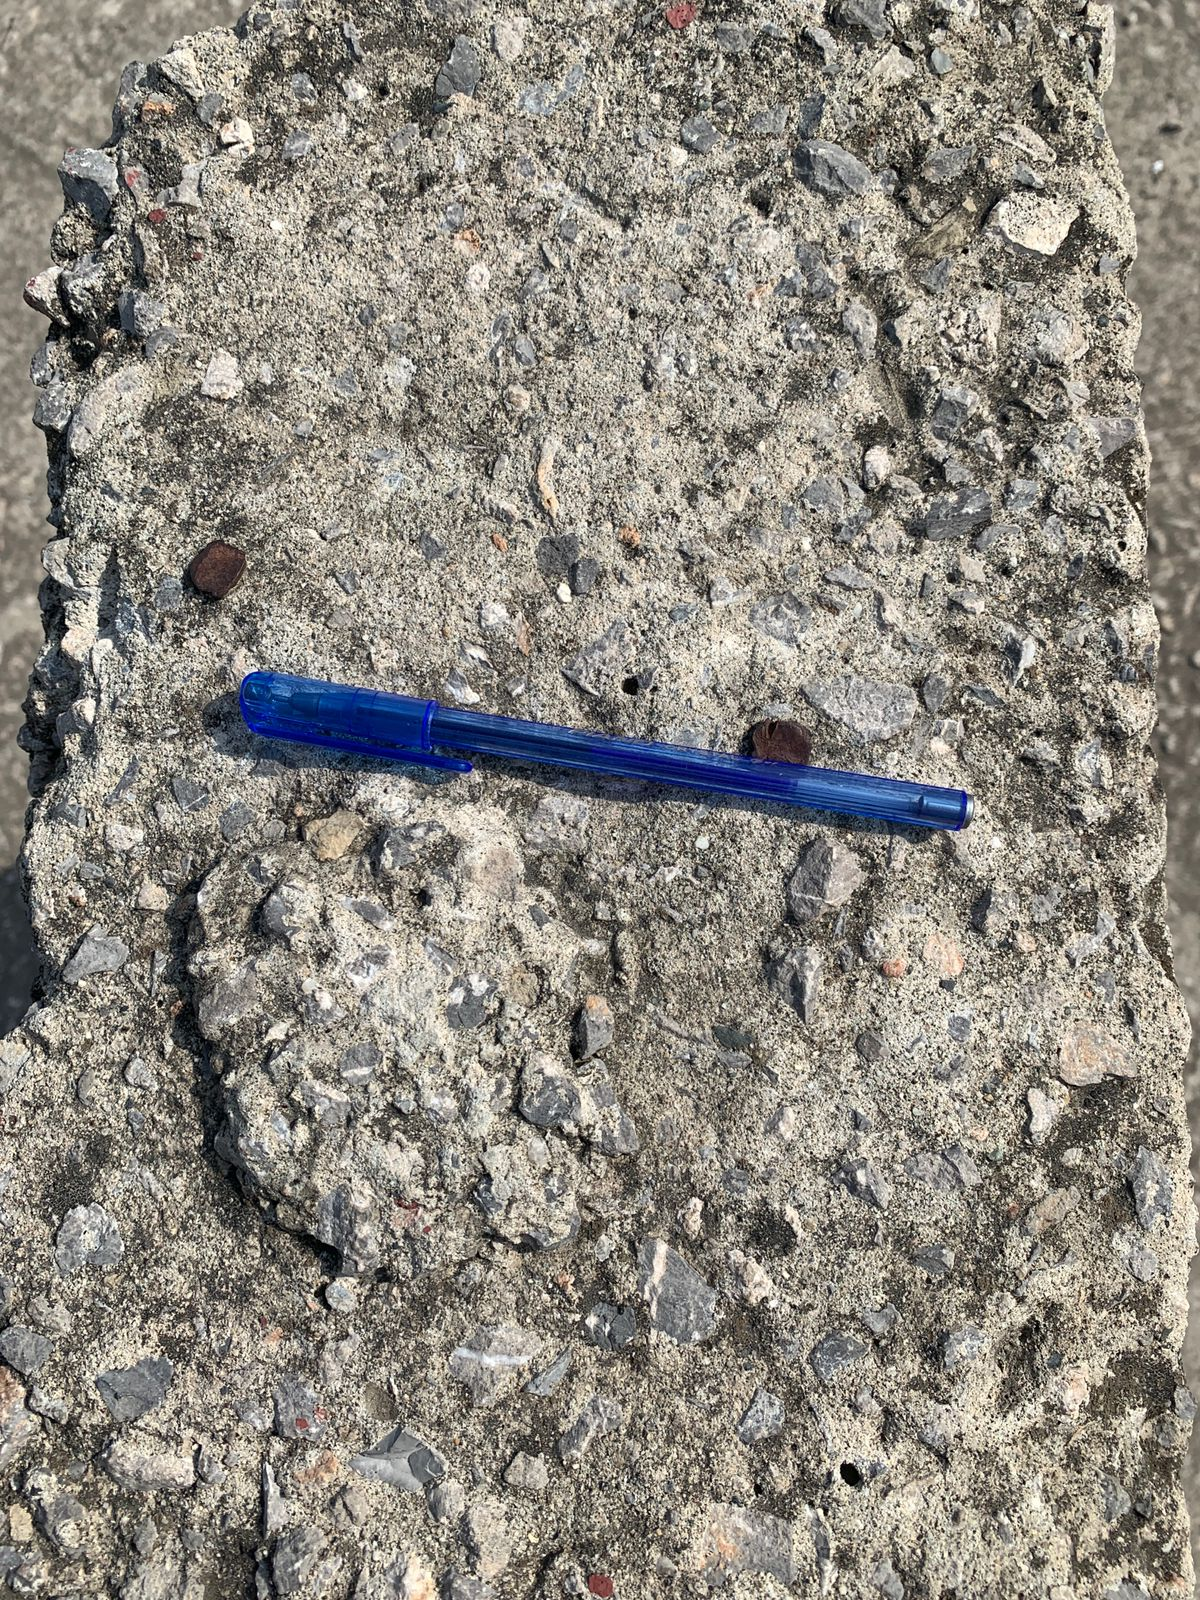pen: (118, 555, 1156, 943)
